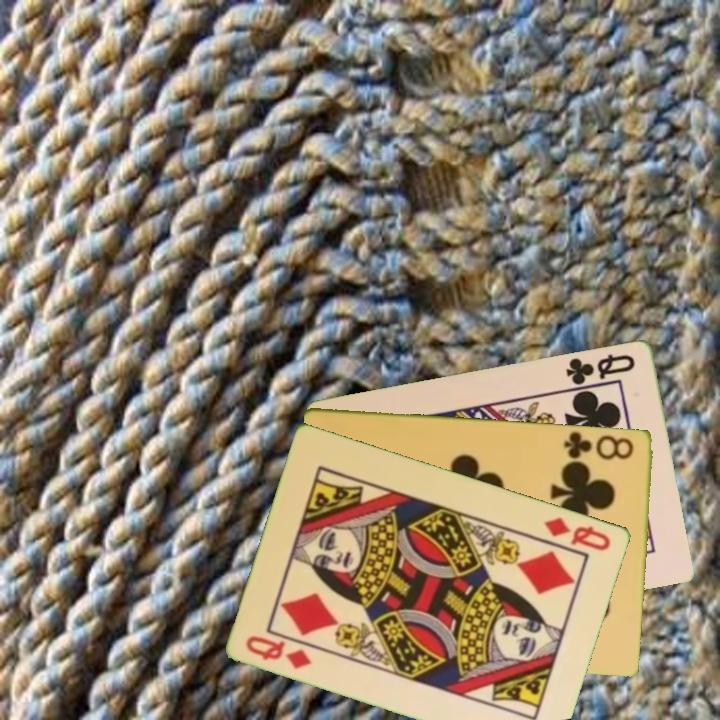8c: (561, 427, 637, 462)
Qc: (562, 349, 639, 391)
Qd: (541, 513, 614, 554), (243, 632, 315, 672)
